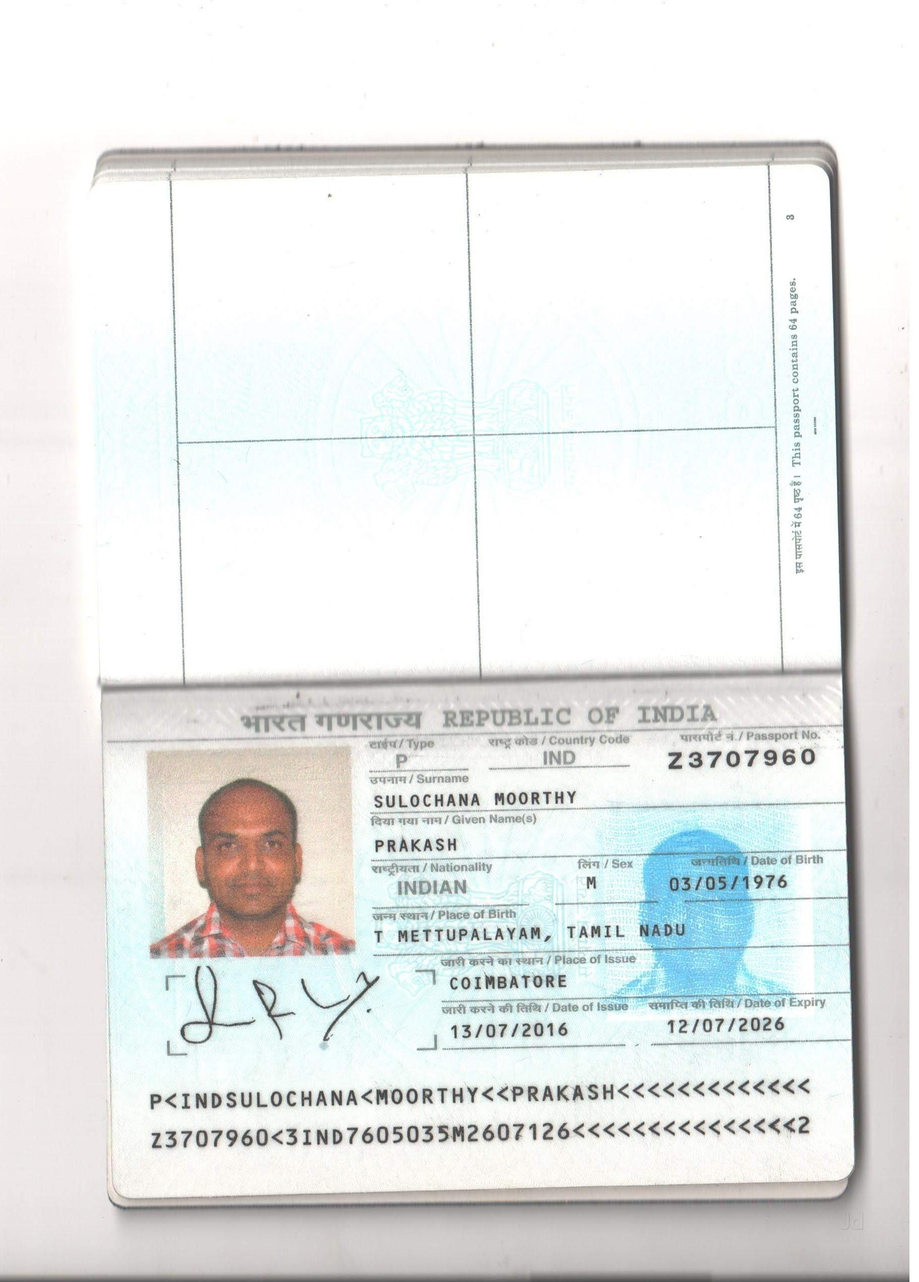DOB: (669, 868, 798, 898)
Surname: (366, 785, 594, 808)
country_code: (536, 745, 590, 772)
date_of_expiry: (659, 1009, 795, 1043)
date_of_issue: (450, 1015, 580, 1049)
details: (133, 1078, 823, 1161)
name: (367, 829, 465, 858)
nationality: (390, 872, 473, 904)
passport_no: (650, 742, 831, 779)
photo: (144, 751, 359, 950)
place_of_birth: (370, 922, 697, 948)
place_of_issue: (441, 969, 579, 1001)
sex: (577, 870, 609, 895)
sign: (180, 961, 378, 1050)
type: (387, 749, 417, 774)
